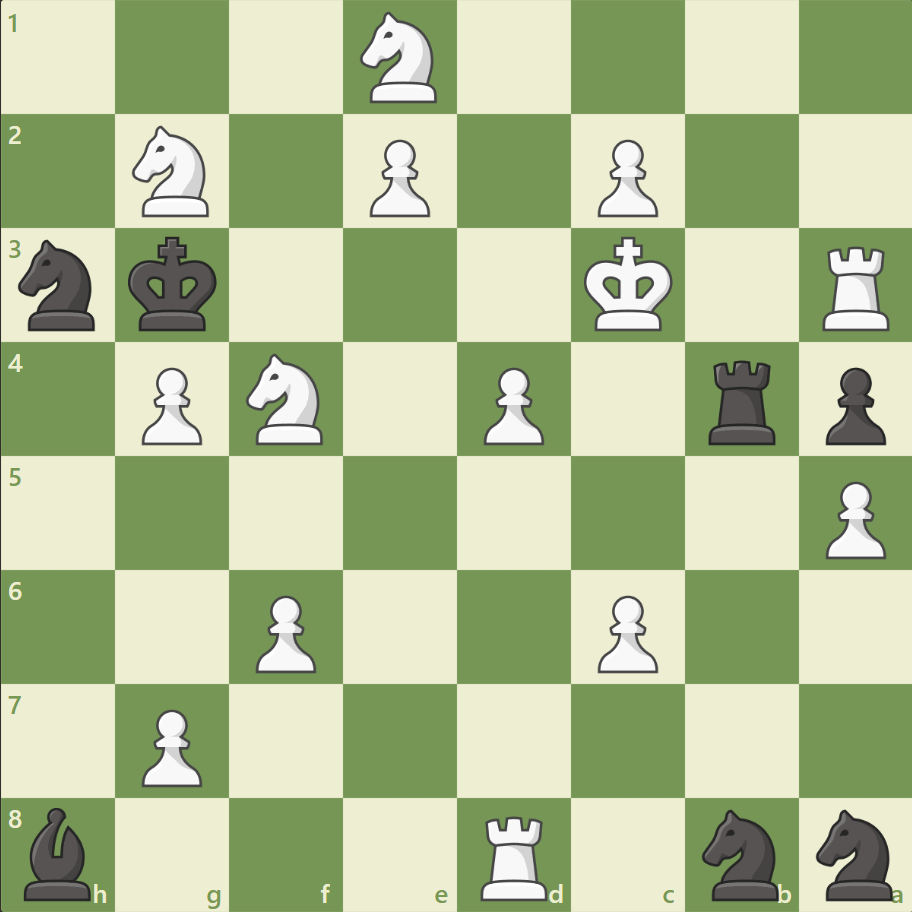K: (579, 231, 679, 339)
N: (351, 7, 449, 110), (124, 121, 222, 223), (238, 348, 335, 450)
P: (133, 700, 208, 791), (247, 586, 322, 677), (474, 359, 549, 450), (133, 359, 208, 450), (588, 586, 662, 677), (815, 473, 889, 564), (588, 132, 662, 223), (361, 132, 435, 223)
R: (473, 806, 556, 904), (814, 239, 897, 336)
b: (17, 801, 101, 904)
k: (124, 231, 224, 339)
n: (11, 234, 108, 337), (806, 802, 903, 904), (692, 802, 789, 904)
p: (815, 359, 889, 450)
r: (700, 352, 783, 449)
